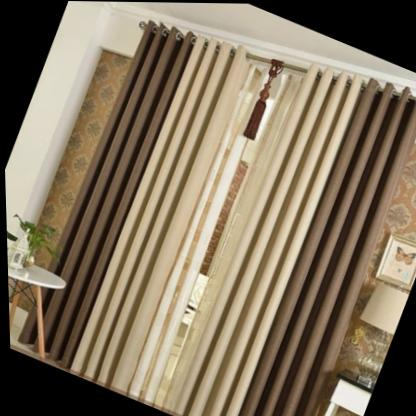Curtains: (36, 19, 416, 416)
